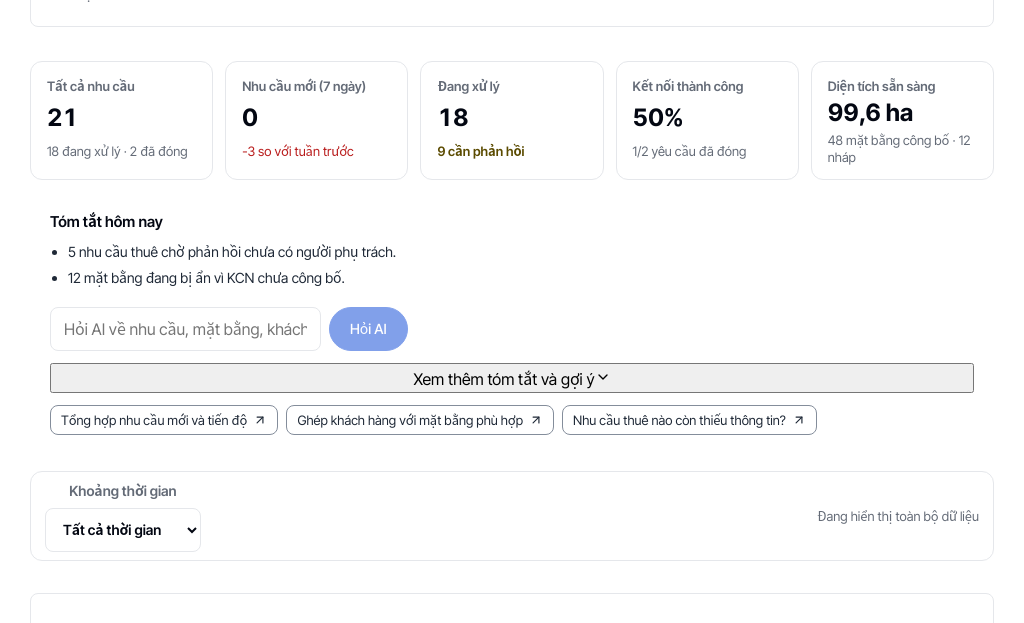
Scenario: dashboard reading order › keeps the extra AI summary lines and suggested questions behind one labelled disclosure
(page scrolled)
Click the button "Xem thêm tóm tắt và gợi ý" at (512, 378), box [50, 363, 974, 393]
(page scrolled)
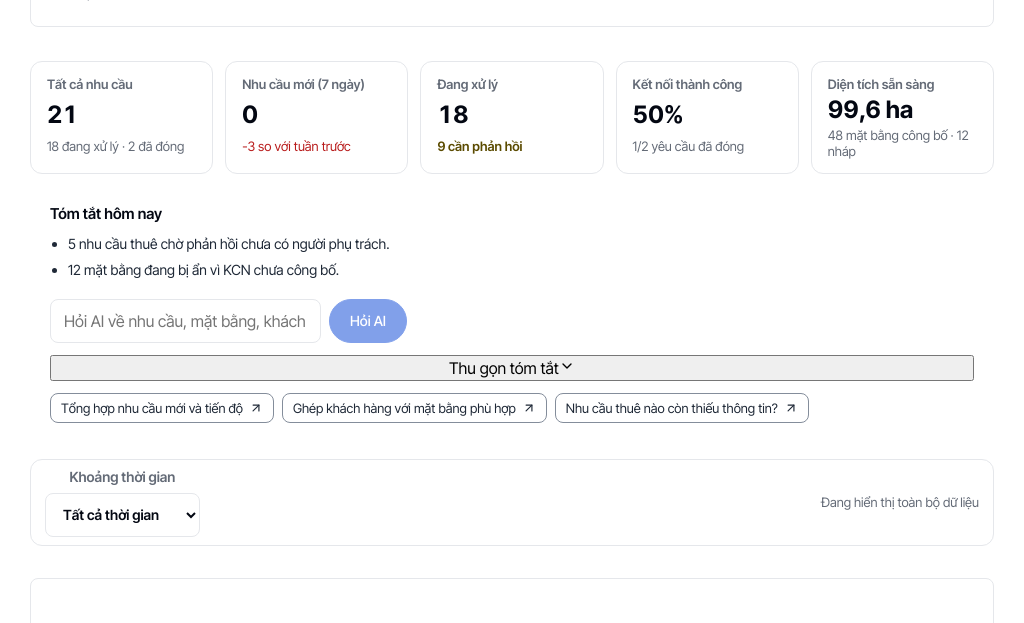
expect the button named "Xem thêm tóm tắt và gợi ý" is expanded: met, box [50, 355, 974, 381]
expect the button named "Xem thêm tóm tắt và gợi ý" reads "Thu gọn tóm tắt": met, box [50, 355, 974, 381]
